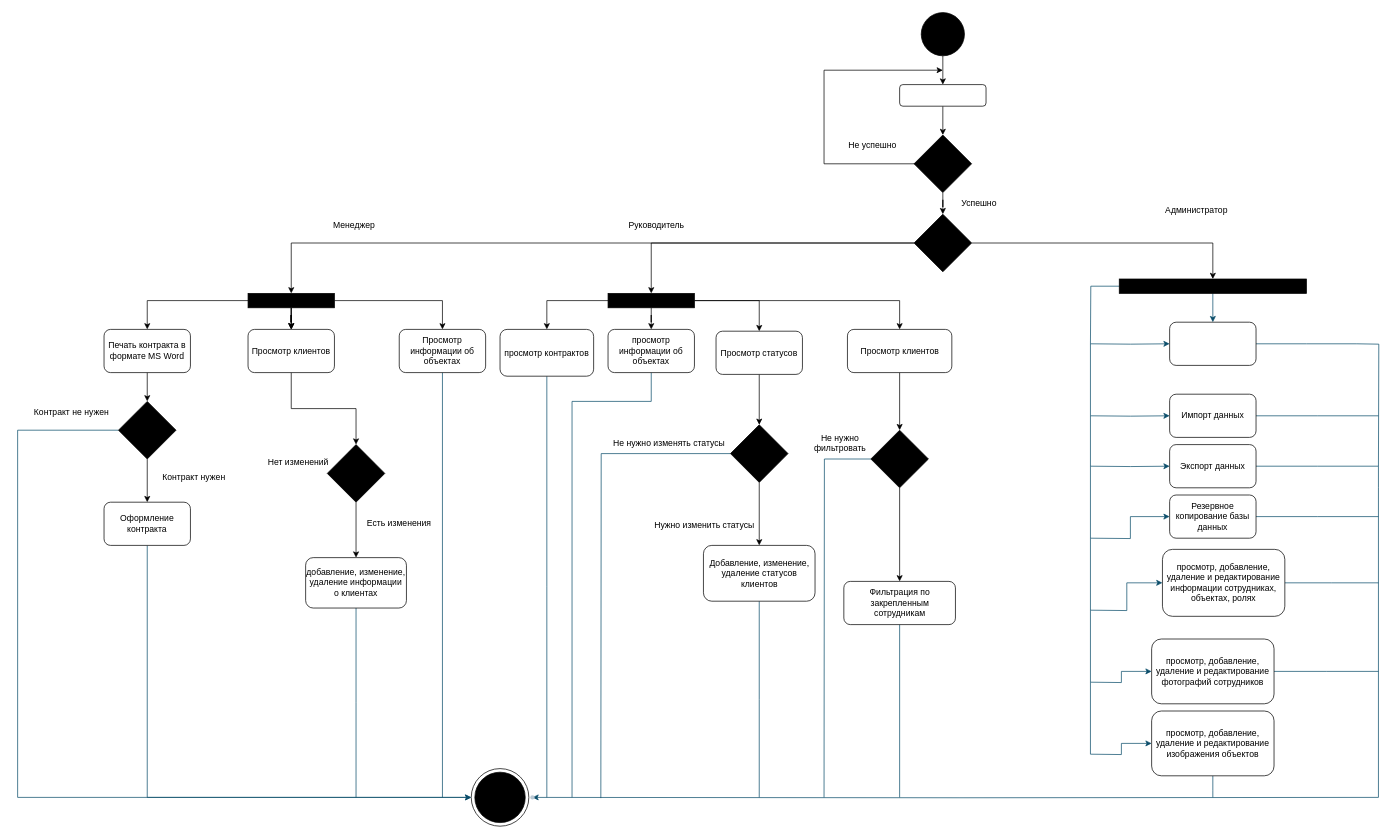
The diagram is 1397 pixels wide and 839 high, and some of its shapes have lost their labels. The centre of each missing label's shape, as x and y in pixels:
Авторизация: the point at 942,95
восстановление базы данных: the point at 1212,343
